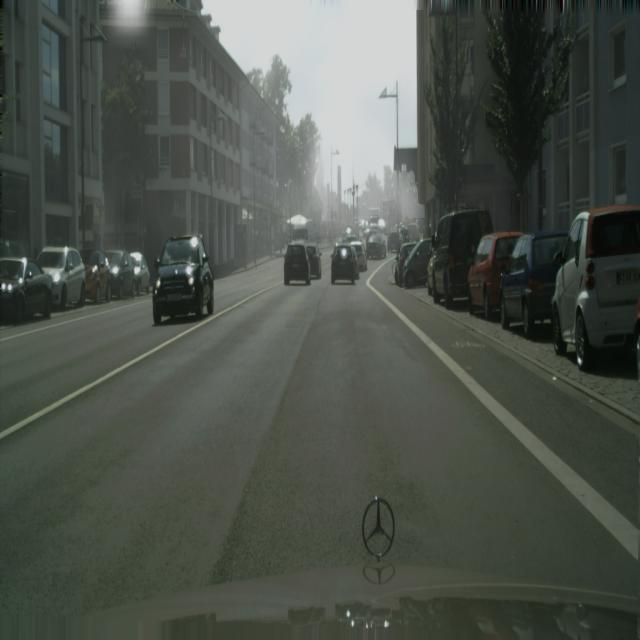car: (284, 214, 321, 280)
person: (551, 205, 640, 370), (499, 230, 568, 340), (427, 208, 494, 308), (152, 234, 215, 326), (467, 231, 523, 321), (0, 256, 53, 323), (36, 246, 86, 311), (83, 249, 112, 303), (107, 249, 136, 299), (403, 238, 432, 288), (330, 241, 359, 285), (283, 242, 311, 286), (129, 251, 151, 295), (393, 241, 414, 286), (366, 230, 387, 260), (349, 239, 367, 272), (387, 228, 402, 254)
